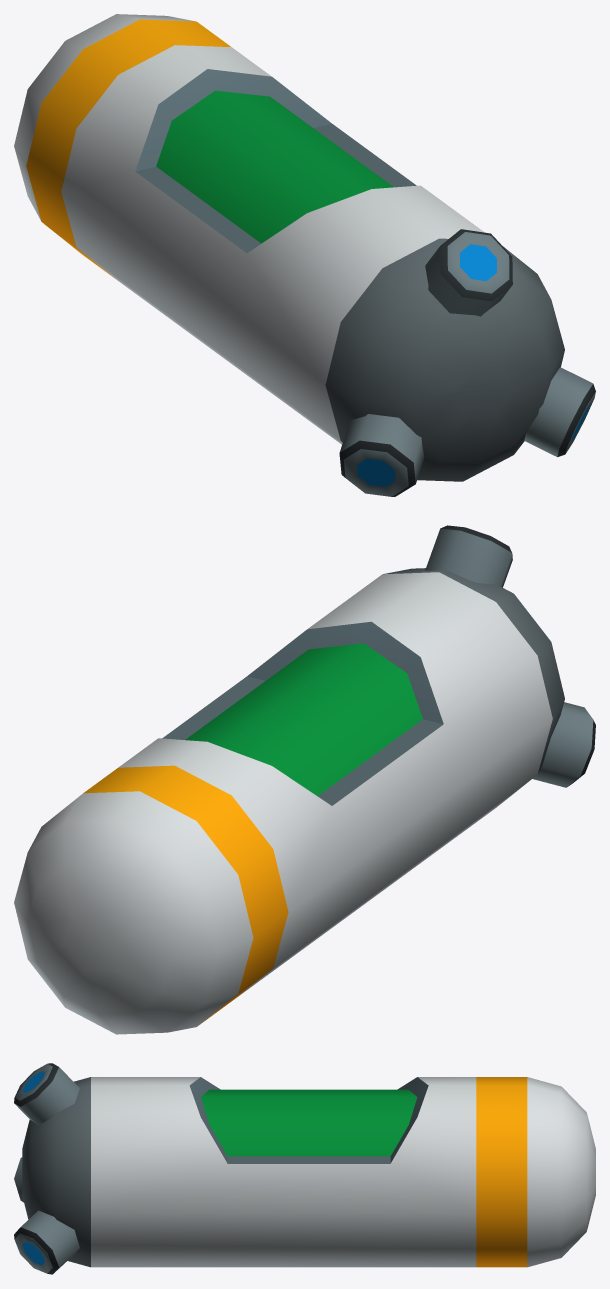
File: Baloon_006.fbx
3 views of the same model, one above another, from view 1: azimuth 30°, elevation 25°; view 2: azimuth 150°, elevation 25°; view 3: azimuth 270°, elevation 25° (orthographic). The views are drawn at different scales.
Visible parts, largest first — view 1: Baloon_006; view 2: Baloon_006; view 3: Baloon_006.
Boxes of the visible parts, x1,y1,x2,y2 form: Baloon_006: (14,14,595,496); Baloon_006: (14,525,595,1034); Baloon_006: (14,1063,595,1274).
Bounding box in the file's own units: 44.39 × 122 × 44.33.
